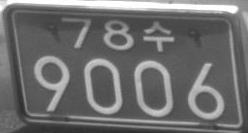0: (133, 59, 174, 117), (83, 56, 123, 115)
6: (187, 62, 225, 119)
7: (60, 15, 92, 49)
8: (101, 19, 134, 51)
9: (33, 53, 69, 112)
수: (143, 20, 174, 52)
